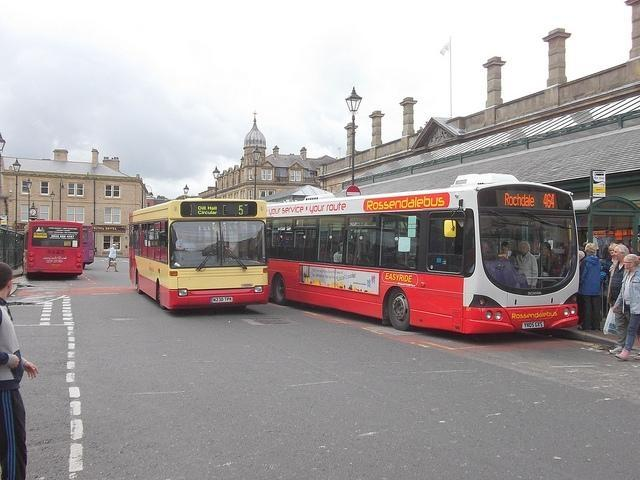bus: (266, 163, 582, 336), (130, 197, 268, 311), (23, 220, 84, 284), (83, 226, 94, 270)
